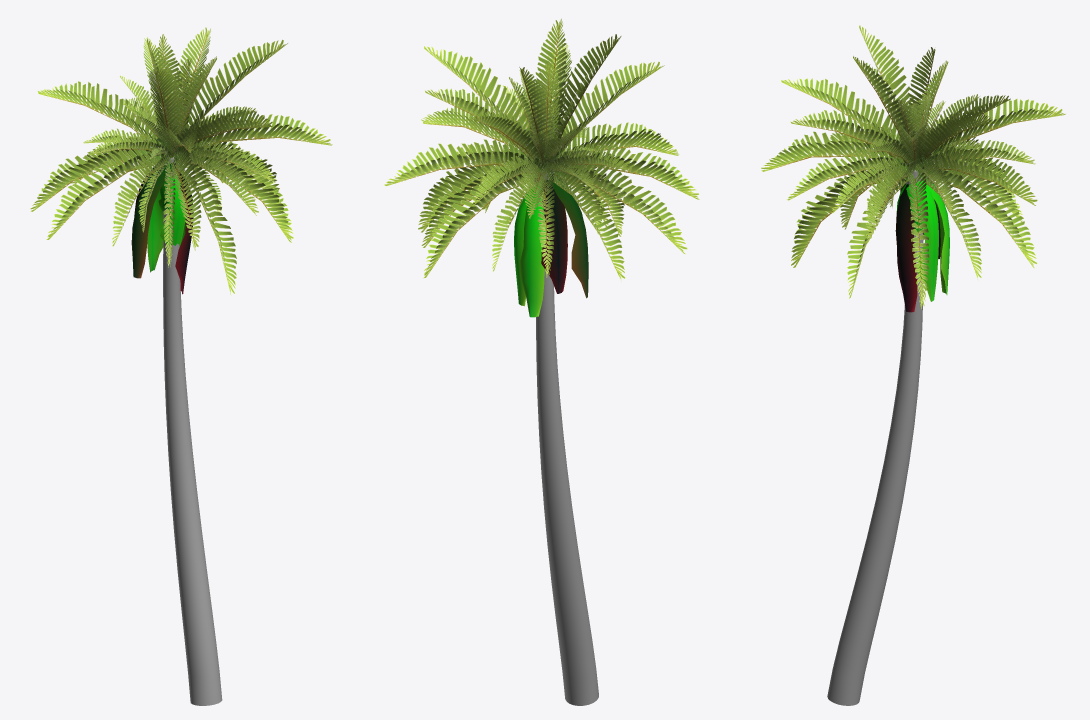
File: palm_tree.fbx
3 renders of one model, left to right at view 1: azimuth 30°, elevation 25°; view 2: azimuth 150°, elevation 25°; view 3: azimuth 270°, elevation 25°, orthographic. The views are drawn at different scales.
Parts seen in each view (by area): view 1: palmleaf_low_palmleaf_basecolor_alpha2_1, pCylinder1, palmleaf_low_palmleaf_basecolor_alpha_test_2; view 2: palmleaf_low_palmleaf_basecolor_alpha2_1, pCylinder1, palmleaf_low_palmleaf_basecolor_alpha_test_2; view 3: palmleaf_low_palmleaf_basecolor_alpha2_1, pCylinder1, palmleaf_low_palmleaf_basecolor_alpha_test_2.
Boxes of the visible parts, x1=… form: palmleaf_low_palmleaf_basecolor_alpha2_1: x1=30, y1=27, x2=332, y2=295; pCylinder1: x1=163, y1=156, x2=222, y2=705; palmleaf_low_palmleaf_basecolor_alpha_test_2: x1=131, y1=163, x2=193, y2=294; palmleaf_low_palmleaf_basecolor_alpha2_1: x1=384, y1=18, x2=699, y2=279; pCylinder1: x1=536, y1=172, x2=598, y2=705; palmleaf_low_palmleaf_basecolor_alpha_test_2: x1=514, y1=179, x2=588, y2=317; palmleaf_low_palmleaf_basecolor_alpha2_1: x1=761, y1=25, x2=1065, y2=308; pCylinder1: x1=827, y1=170, x2=923, y2=705; palmleaf_low_palmleaf_basecolor_alpha_test_2: x1=895, y1=178, x2=949, y2=312.
Bounding box in the file's own units: 245 × 520 × 236.
